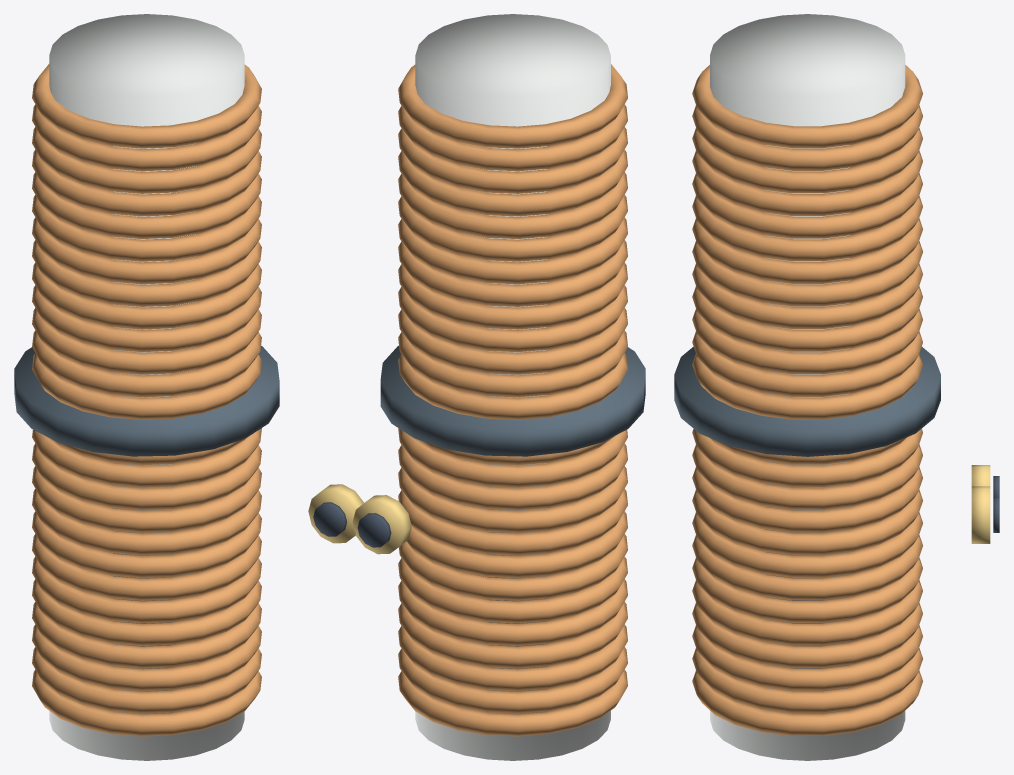
File: L84_27_MagneticTorqueRodY_Fitted.fbx
3 renders of one model, left to right at view 1: azimuth 30°, elevation 25°; view 2: azimuth 150°, elevation 25°; view 3: azimuth 270°, elevation 25°, orthographic.
Parts seen in each view (by area): view 1: L84_MagneticTorqueRodY_Static__tintCC6629, L84_MagneticTorqueRodY_Static__tintCCD4CF, L84_MagneticTorqueRodY_Static__tint1C2933; view 2: L84_MagneticTorqueRodY_Static__tintCC6629, L84_MagneticTorqueRodY_Static__tintCCD4CF, L84_MagneticTorqueRodY_Static__tint1C2933, L84_MagneticTorqueRodY_Static__tintF2B547, L84_MagneticTorqueRodY_Static__tint131B26; view 3: L84_MagneticTorqueRodY_Static__tintCC6629, L84_MagneticTorqueRodY_Static__tintCCD4CF, L84_MagneticTorqueRodY_Static__tint1C2933, L84_MagneticTorqueRodY_Static__tintF2B547.
Part boxes in pixels (x1,y1,x2,y2): L84_MagneticTorqueRodY_Static__tintCC6629: [32, 64, 261, 736]; L84_MagneticTorqueRodY_Static__tintCCD4CF: [49, 14, 244, 760]; L84_MagneticTorqueRodY_Static__tint1C2933: [14, 345, 279, 456]; L84_MagneticTorqueRodY_Static__tintCC6629: [398, 64, 627, 736]; L84_MagneticTorqueRodY_Static__tintCCD4CF: [415, 14, 610, 760]; L84_MagneticTorqueRodY_Static__tint1C2933: [380, 345, 645, 456]; L84_MagneticTorqueRodY_Static__tintF2B547: [308, 484, 411, 554]; L84_MagneticTorqueRodY_Static__tint131B26: [313, 502, 391, 547]; L84_MagneticTorqueRodY_Static__tintCC6629: [692, 65, 922, 735]; L84_MagneticTorqueRodY_Static__tintCCD4CF: [710, 14, 905, 760]; L84_MagneticTorqueRodY_Static__tint1C2933: [674, 347, 940, 456]; L84_MagneticTorqueRodY_Static__tintF2B547: [971, 465, 990, 543].
Bounding box in the file's own units: 5.76 × 15.84 × 7.03.
